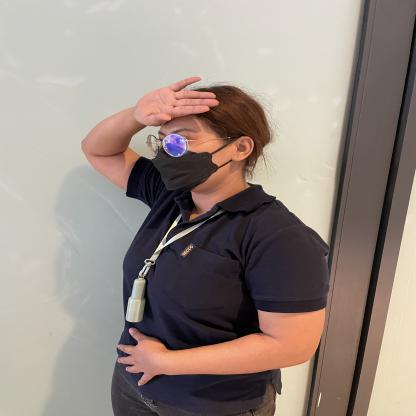Sick: (88, 63, 239, 133)
